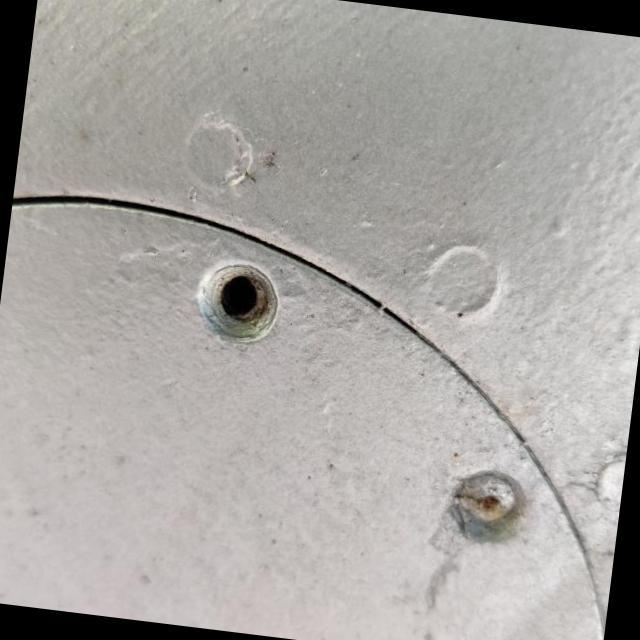Fastener Damage: (148, 213, 314, 388)
